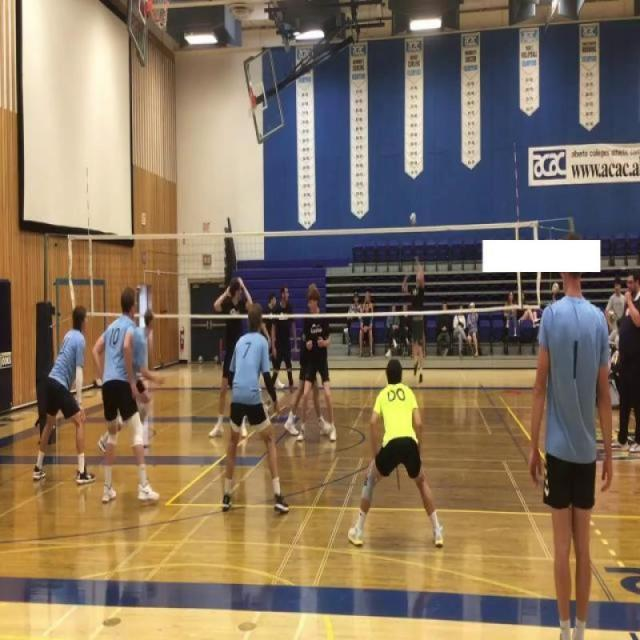volleyball: (409, 212, 416, 226)
